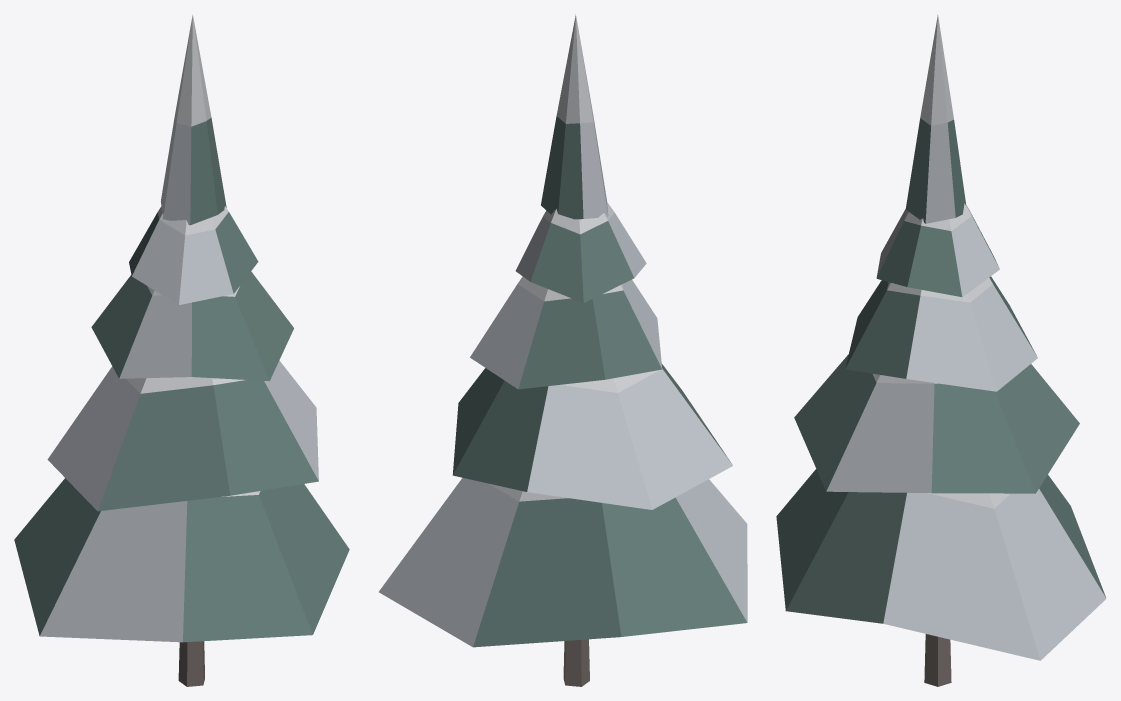
File: kuusi_2.glb
3 views of the same model, side by side, from view 1: azimuth 30°, elevation 25°; view 2: azimuth 150°, elevation 25°; view 3: azimuth 270°, elevation 25° (orthographic).
Visible parts, largest first — view 1: kuusi_2; view 2: kuusi_2; view 3: kuusi_2.
Part boxes in pixels (left/top/right/bottom): kuusi_2: left=14, top=14, right=349, bottom=686; kuusi_2: left=379, top=14, right=747, bottom=686; kuusi_2: left=776, top=15, right=1106, bottom=686.
Bounding box in the file's own units: 4.59 × 9.5 × 4.26.
